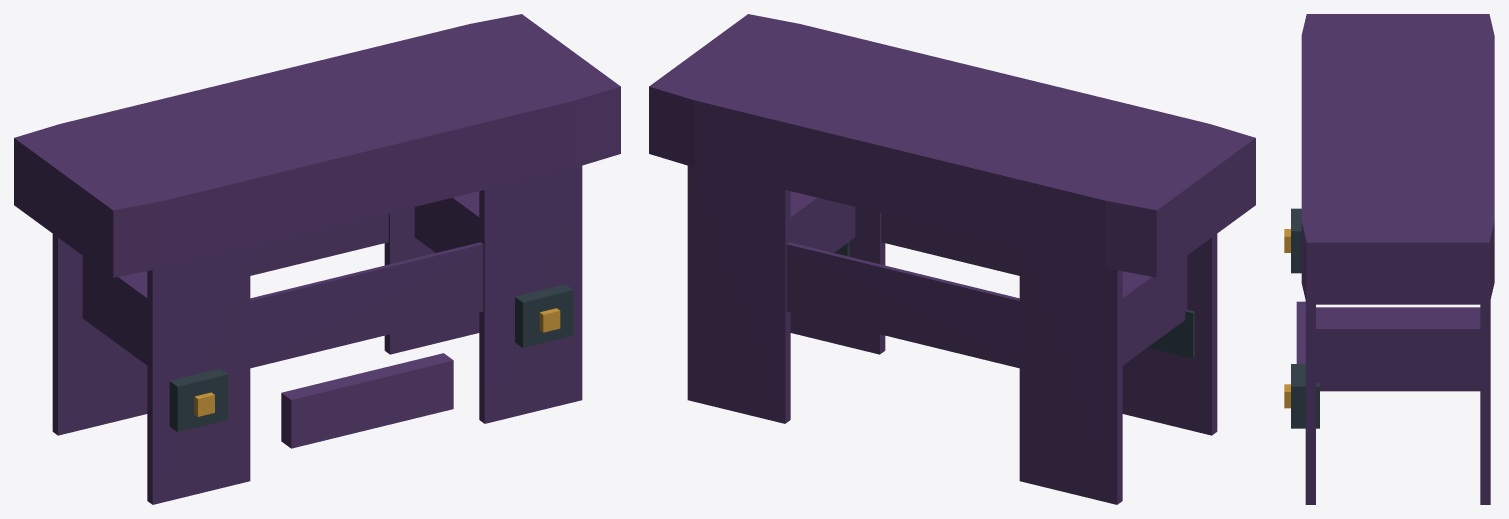
The model's file is market-bench-lilac.glb.
3 renders of one model, left to right at view 1: azimuth 30°, elevation 25°; view 2: azimuth 150°, elevation 25°; view 3: azimuth 270°, elevation 25°, orthographic. The views are drawn at different scales.
Parts seen in each view (by area): view 1: market-bench-lilac; view 2: market-bench-lilac; view 3: market-bench-lilac.
Boxes of the visible parts, <box> form: market-bench-lilac: <box>14,14,620,504</box>; market-bench-lilac: <box>649,14,1255,504</box>; market-bench-lilac: <box>1284,14,1494,504</box>.
Bounding box in the file's own units: 1.4 × 0.8 × 0.5445.
